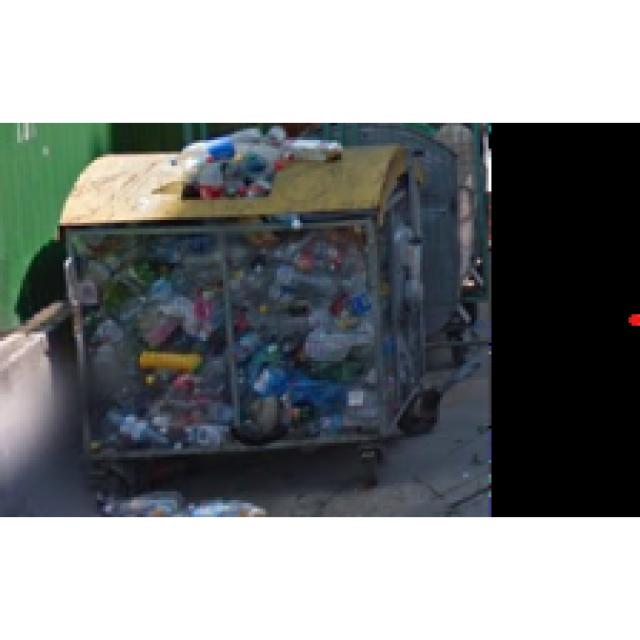plastic trash bin: (42, 148, 455, 486)
